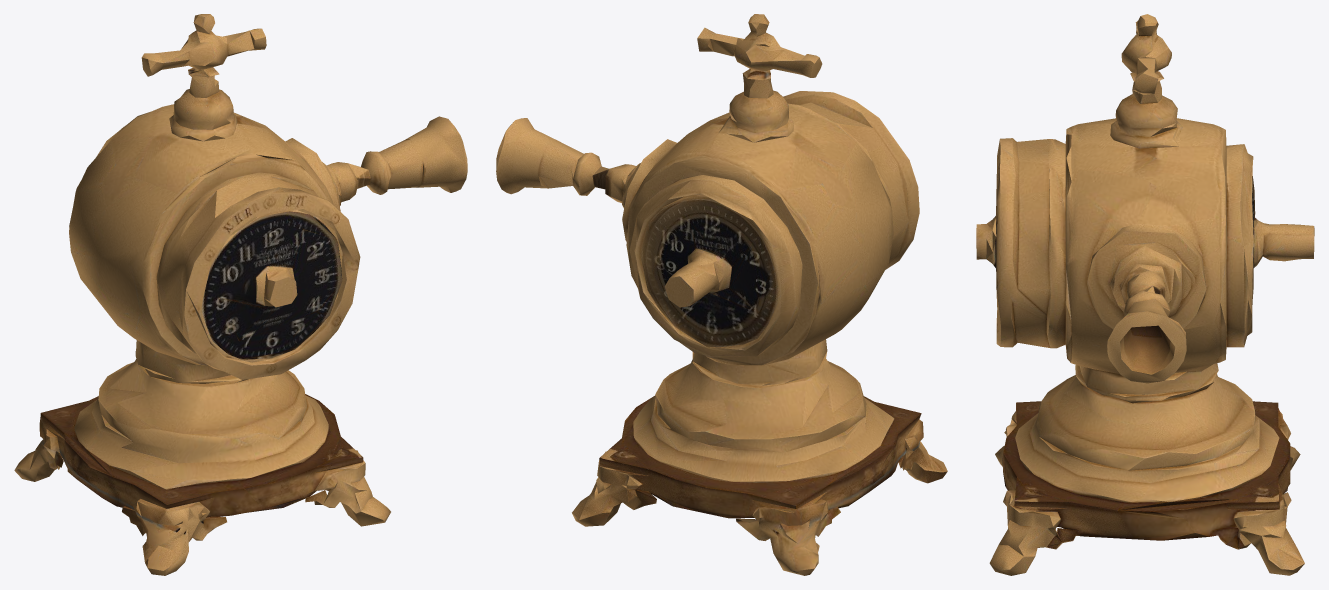
File: mj-engine-order-telegraph.glb
3 renders of one model, left to right at view 1: azimuth 30°, elevation 25°; view 2: azimuth 150°, elevation 25°; view 3: azimuth 270°, elevation 25°, orthographic. The views are drawn at different scales.
Visible parts, largest first — view 1: mj-engine-order-telegraph; view 2: mj-engine-order-telegraph; view 3: mj-engine-order-telegraph.
Boxes of the visible parts, x1,y1,x2,y2 form: mj-engine-order-telegraph: [14, 14, 467, 575]; mj-engine-order-telegraph: [496, 14, 947, 575]; mj-engine-order-telegraph: [976, 14, 1314, 575].
Bounding box in the file's own units: 0.9988 × 1.25 × 0.7607.
1 material, 1 textured.
